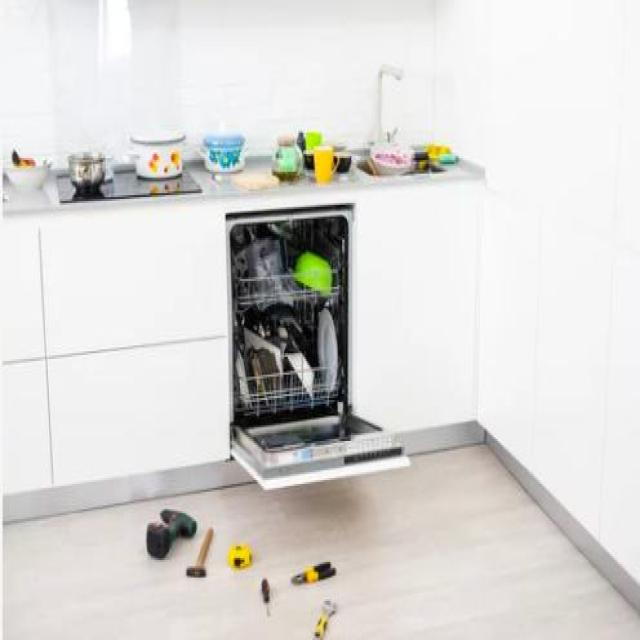dishwasher: (217, 193, 417, 496)
